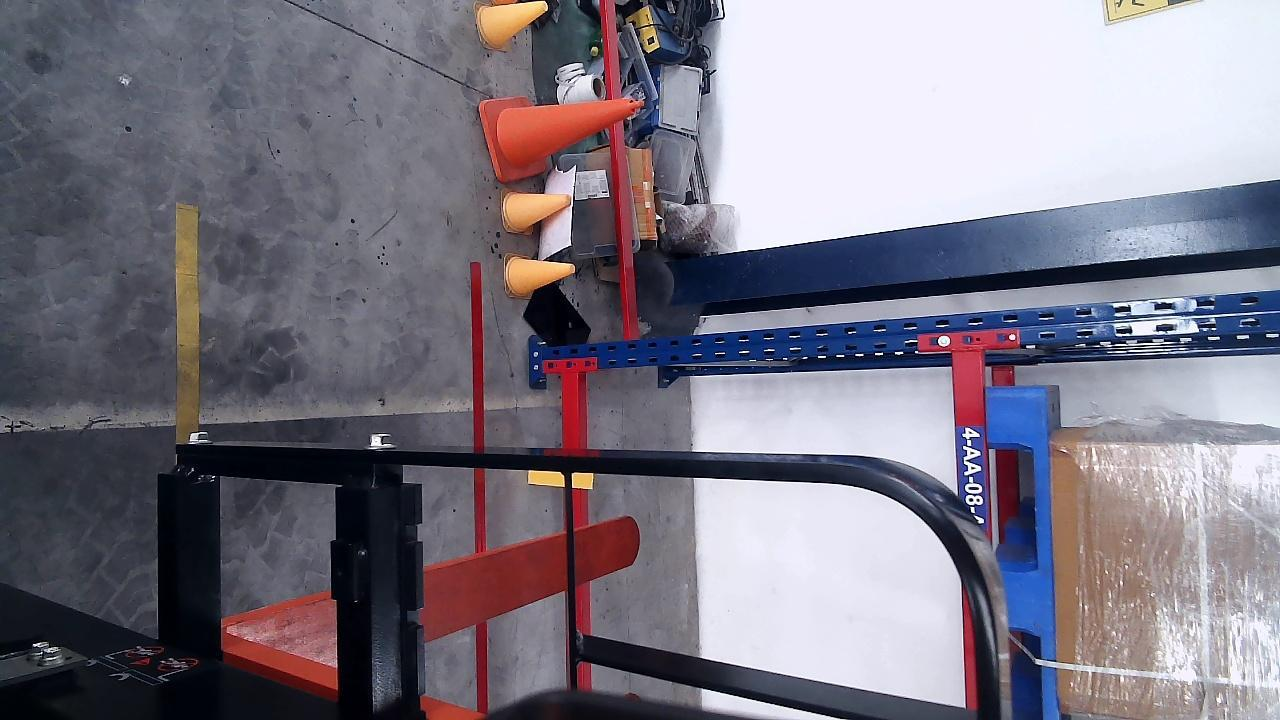h_rack: (952, 350, 991, 541)
red_line: (469, 261, 489, 551)
small_pallet: (985, 390, 1054, 720)
yellow_line: (173, 201, 199, 428)
